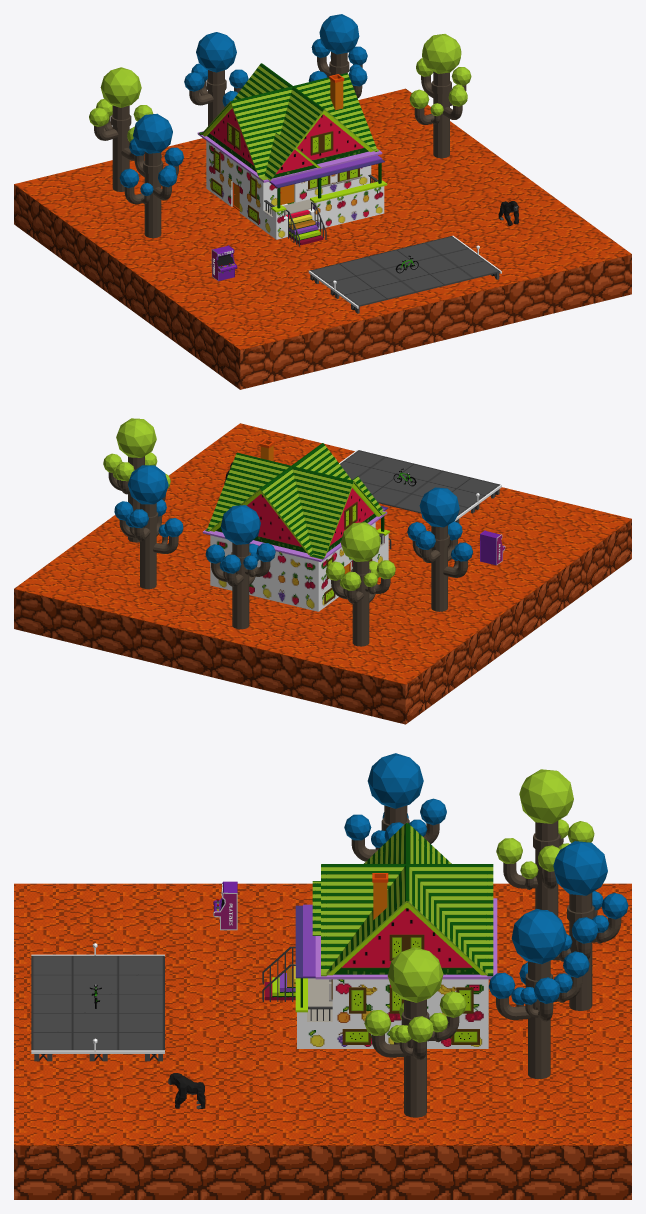
3 views of the same model, one above another, from view 1: azimuth 30°, elevation 25°; view 2: azimuth 150°, elevation 25°; view 3: azimuth 270°, elevation 25° (orthographic). The views are drawn at different scales.
Visible parts, largest first — view 1: Cube.001, Cube.1063, OBJRANDOM_ARCADE; view 2: Cube.001, Cube.1063, OBJRANDOM_ARCADE; view 3: Cube.001, Cube.1063, OBJRANDOM_ARCADE, ANIMAL_GORILA.
Part boxes in pixels (x1,y1,x2,y2): Cube.001: (14,14,631,389); Cube.1063: (197,63,387,246); OBJRANDOM_ARCADE: (211,245,237,281); Cube.001: (14,418,631,724); Cube.1063: (202,439,391,611); OBJRANDOM_ARCADE: (480,530,505,565); Cube.001: (14,753,631,1199); Cube.1063: (262,823,497,1048); OBJRANDOM_ARCADE: (213,881,237,930); ANIMAL_GORILA: (168,1073,205,1109).
Size of the model in its own units: 4000 by 1642 by 4000.
38 materials, 6 textured.
